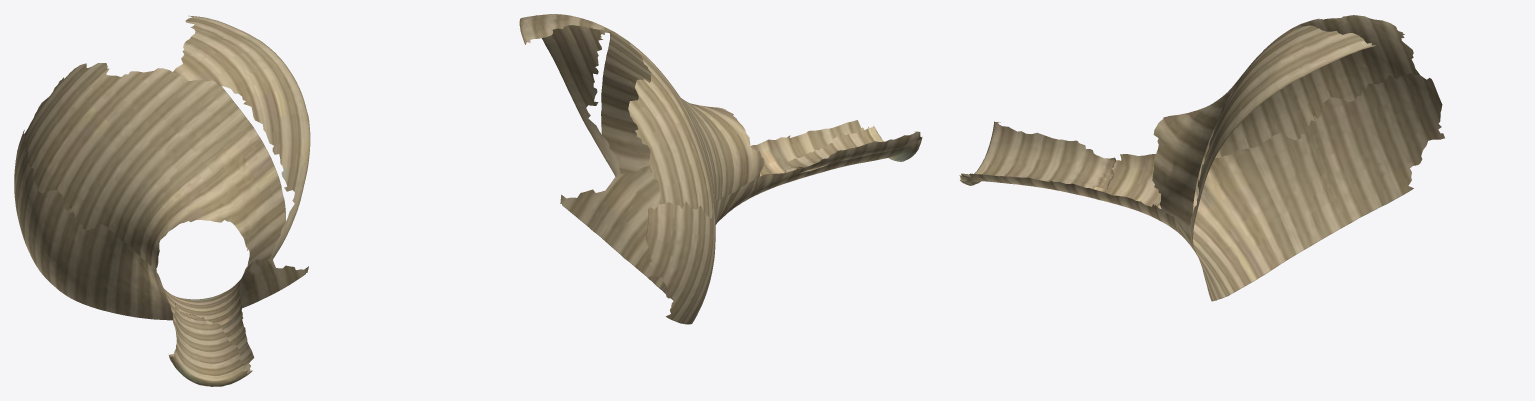
The model's file is 180822_mia337_113283_300_64Kmesh_OBJ.obj.
3 views of the same model, side by side, from view 1: azimuth 30°, elevation 25°; view 2: azimuth 150°, elevation 25°; view 3: azimuth 270°, elevation 25° (orthographic). The views are drawn at different scales.
Bounding box in the file's own units: 4.61 × 4.26 × 6.43.
